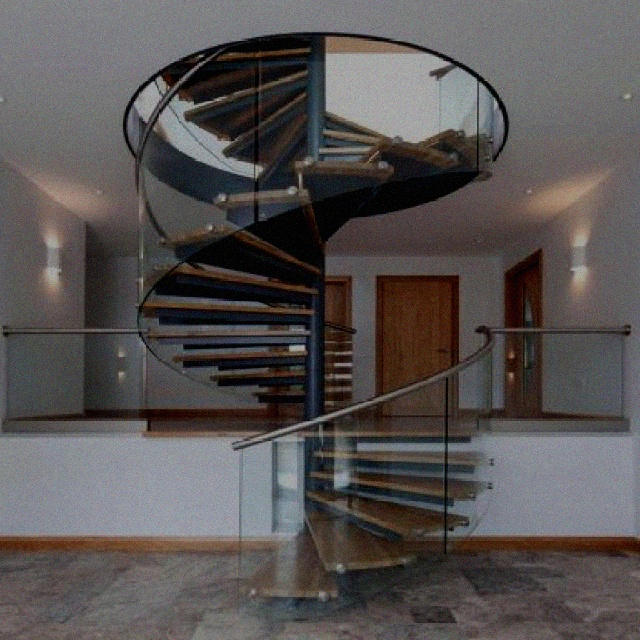stair: (124, 46, 510, 602)
